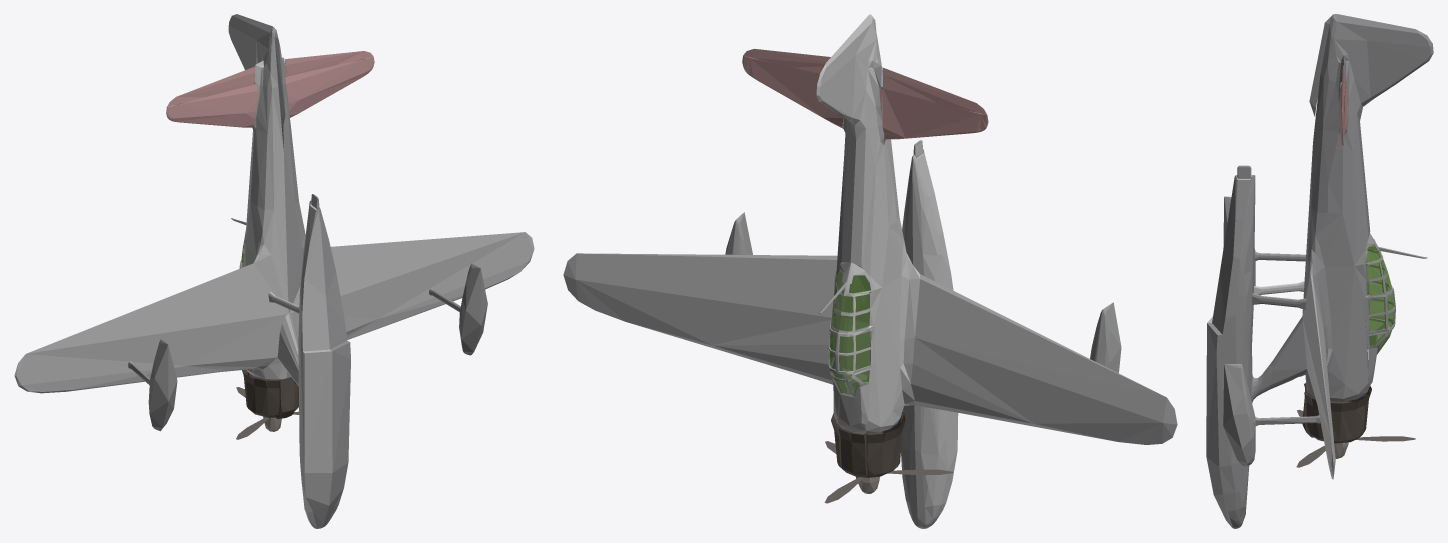
The picture shows the model from 3 angles, left to right: view 1: azimuth 30°, elevation 25°; view 2: azimuth 150°, elevation 25°; view 3: azimuth 270°, elevation 25°; orthographic projection. The views are drawn at different scales.
Parts seen in each view (by area): view 1: ShapeIndexedFaceSet_001, ShapeIndexedFaceSet_002, ShapeIndexedFaceSet, ShapeIndexedFaceSet_005, ShapeIndexedFaceSet_009, ShapeIndexedFaceSet_003; view 2: ShapeIndexedFaceSet_001, ShapeIndexedFaceSet_002, ShapeIndexedFaceSet_005, ShapeIndexedFaceSet, ShapeIndexedFaceSet_004, ShapeIndexedFaceSet_003, ShapeIndexedFaceSet_009, ShapeIndexedFaceSet_007; view 3: ShapeIndexedFaceSet, ShapeIndexedFaceSet_009, ShapeIndexedFaceSet_001, ShapeIndexedFaceSet_003, ShapeIndexedFaceSet_004, ShapeIndexedFaceSet_002, ShapeIndexedFaceSet_007, ShapeIndexedFaceSet_005.
Part boxes in pixels (left/top/right/bottom): ShapeIndexedFaceSet_001: left=14, top=232, right=534, bottom=393; ShapeIndexedFaceSet_002: left=228, top=14, right=332, bottom=528; ShapeIndexedFaceSet: left=231, top=29, right=350, bottom=528; ShapeIndexedFaceSet_005: left=166, top=51, right=374, bottom=127; ShapeIndexedFaceSet_009: left=128, top=263, right=487, bottom=431; ShapeIndexedFaceSet_003: left=242, top=369, right=298, bottom=418; ShapeIndexedFaceSet_001: left=563, top=253, right=1177, bottom=444; ShapeIndexedFaceSet_002: left=816, top=14, right=958, bottom=528; ShapeIndexedFaceSet_005: left=742, top=48, right=988, bottom=139; ShapeIndexedFaceSet: left=816, top=66, right=923, bottom=528; ShapeIndexedFaceSet_004: left=829, top=269, right=870, bottom=395; ShapeIndexedFaceSet_003: left=831, top=412, right=905, bottom=477; ShapeIndexedFaceSet_009: left=725, top=212, right=1121, bottom=373; ShapeIndexedFaceSet_007: left=824, top=441, right=952, bottom=503; ShapeIndexedFaceSet: left=1206, top=14, right=1433, bottom=528; ShapeIndexedFaceSet_009: left=1223, top=196, right=1320, bottom=465; ShapeIndexedFaceSet_001: left=1302, top=273, right=1335, bottom=479; ShapeIndexedFaceSet_003: left=1302, top=383, right=1371, bottom=443; ShapeIndexedFaceSet_004: left=1366, top=239, right=1394, bottom=352; ShapeIndexedFaceSet_002: left=1207, top=87, right=1395, bottom=382; ShapeIndexedFaceSet_007: left=1296, top=409, right=1415, bottom=467; ShapeIndexedFaceSet_005: left=1338, top=65, right=1347, bottom=146.
Size of the model in its own units: 8729 by 3012 by 7508.
